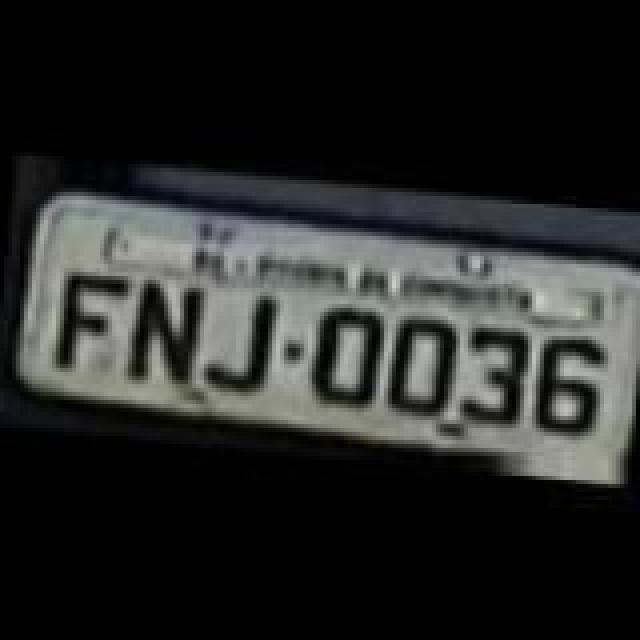3: (454, 324, 534, 432)
6: (526, 328, 606, 440)
F: (48, 268, 128, 380)
J: (198, 290, 282, 398)
N: (124, 278, 212, 390)
O: (308, 300, 388, 408), (386, 314, 462, 422)
